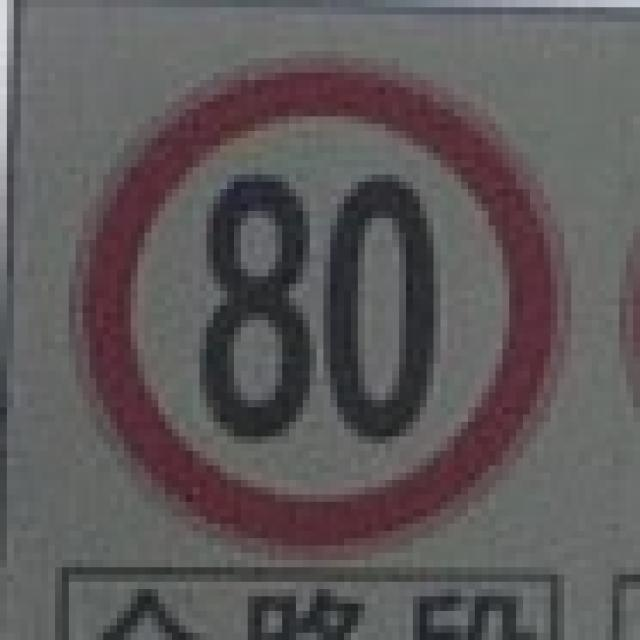Speed Limit -80-: (198, 167, 438, 451)
